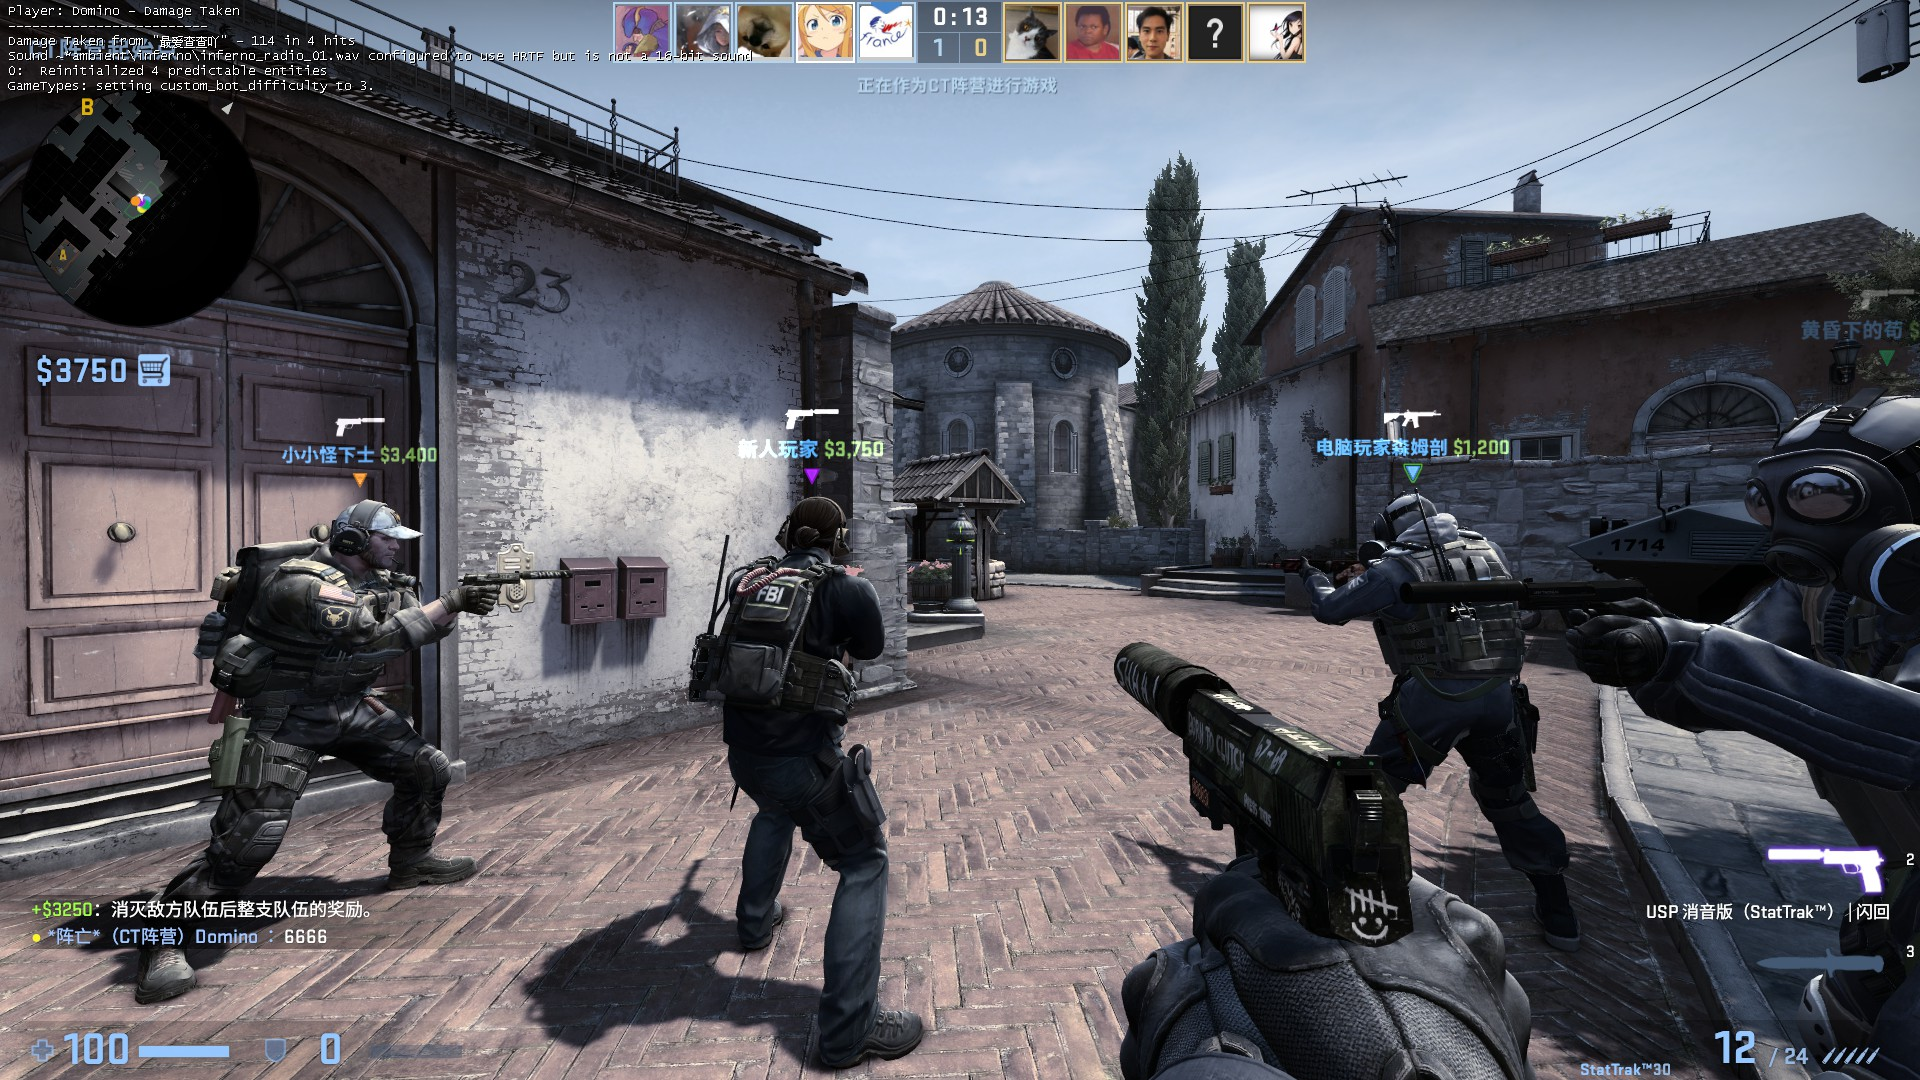head: (1742, 393, 1919, 582), (771, 493, 855, 560), (329, 497, 404, 570), (1371, 488, 1438, 548)
